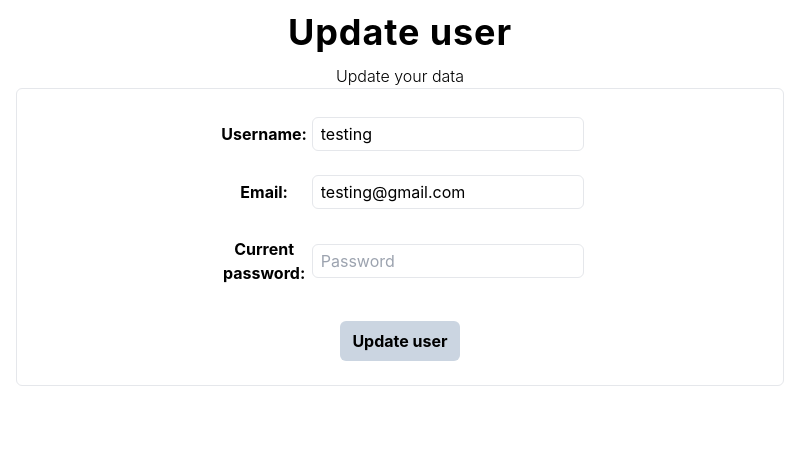
Test: UpdateUserForm tests › Test validation
The width and height of the screenshot is (801, 463).
Expected: the heading "Update user" is shown, [288,12,512,52]
Expected: the heading "Update your data" is shown, [336,64,464,88]
// Fill form
Replace the text in the field labelled "Username:" with "e" at x=448, y=134, box [312,117,584,151]
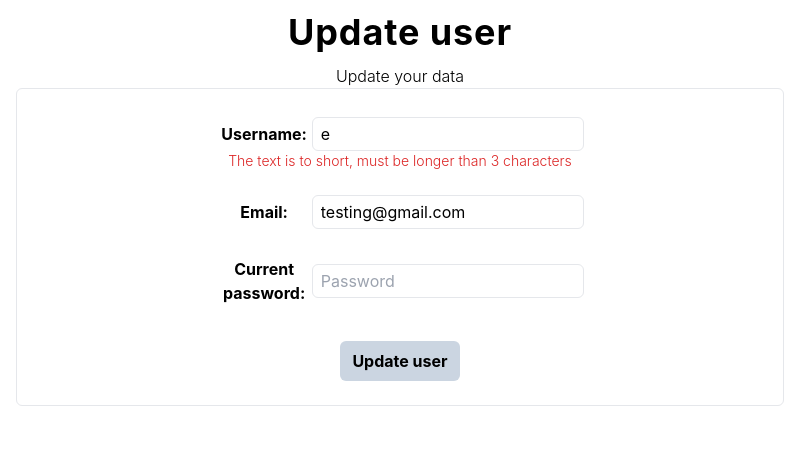
Replace the text in the field labelled "Email:" with "rr" at x=448, y=212, box [312,195,584,229]
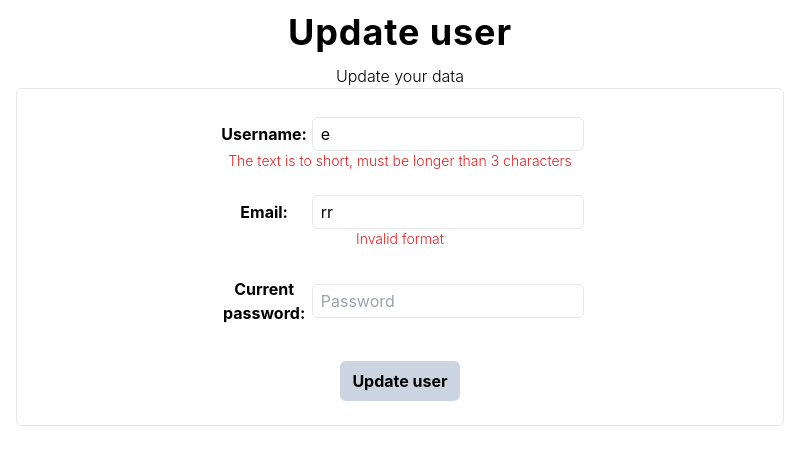
Submit the form from the button "Update user", box [340,361,460,401]
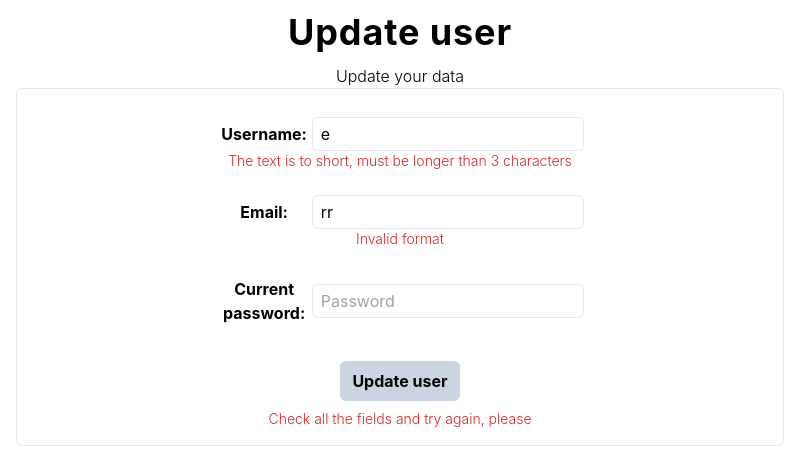
Now the heading "The text is to short, must be longer than 3 characters" is shown, box [228,151,572,171]
Now the heading "Invalid format" is shown, box [356,229,444,249]
Now the heading "Check all the fields and try again, please" is shown, box [268,409,532,429]
